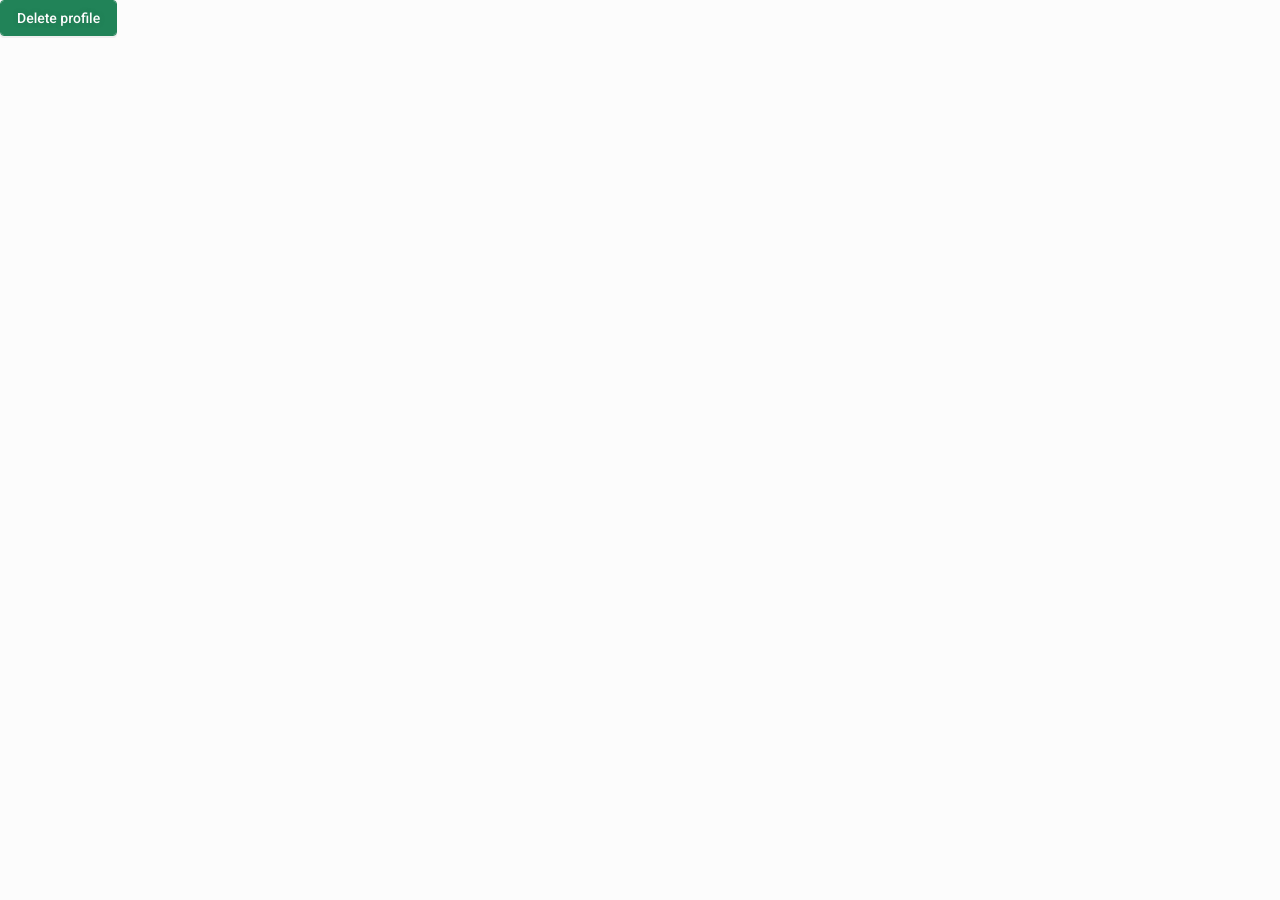
Scenario: ConfirmDialog › confirming calls onConfirm once and closes the dialog
Click the button "Delete profile": (59, 18) [0, 0, 117, 36]
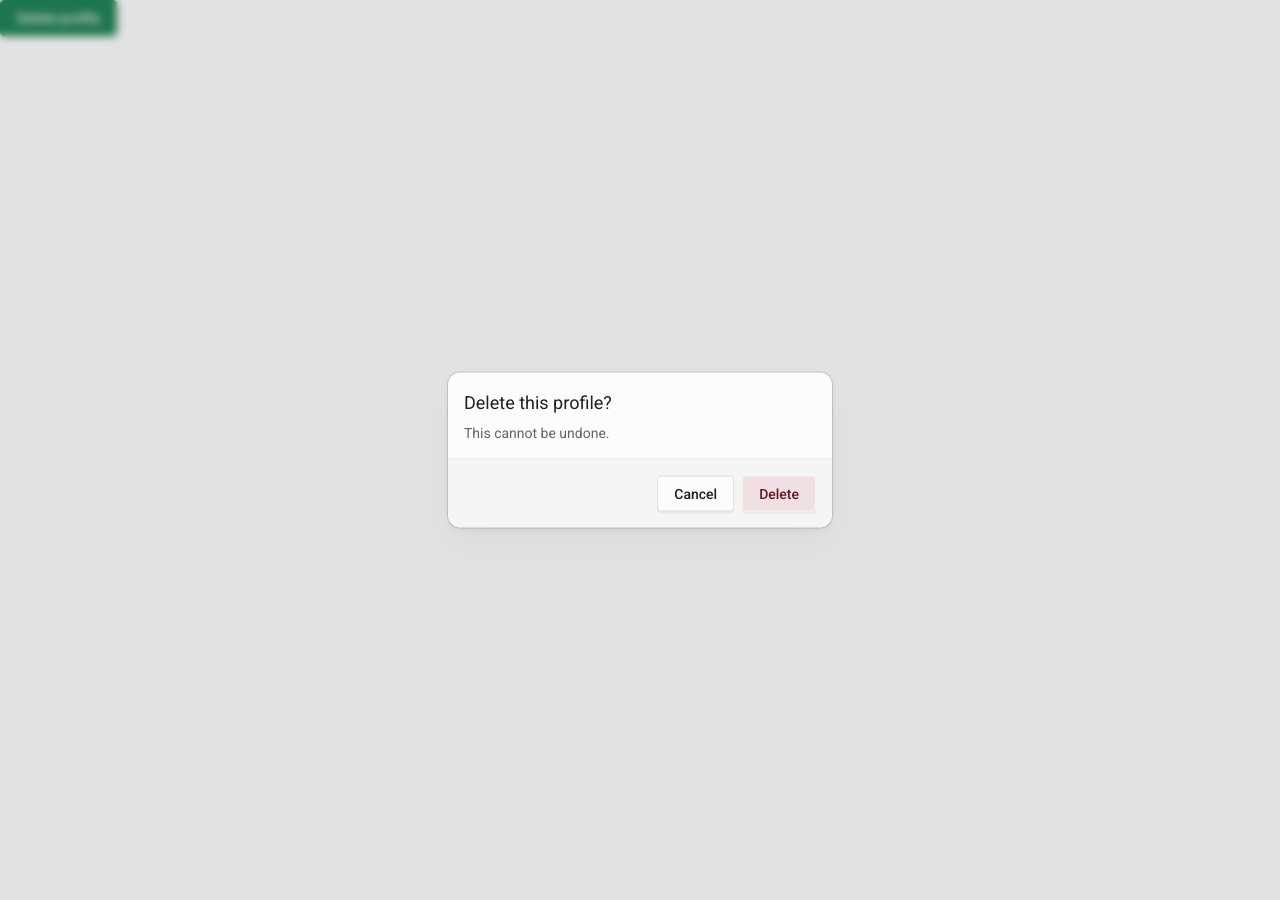
Result: the dialog is shown at [448, 372, 832, 528]
Result: the text "This cannot be undone." is shown at [464, 422, 610, 442]
Click the button "Delete": (779, 494) [742, 476, 816, 512]
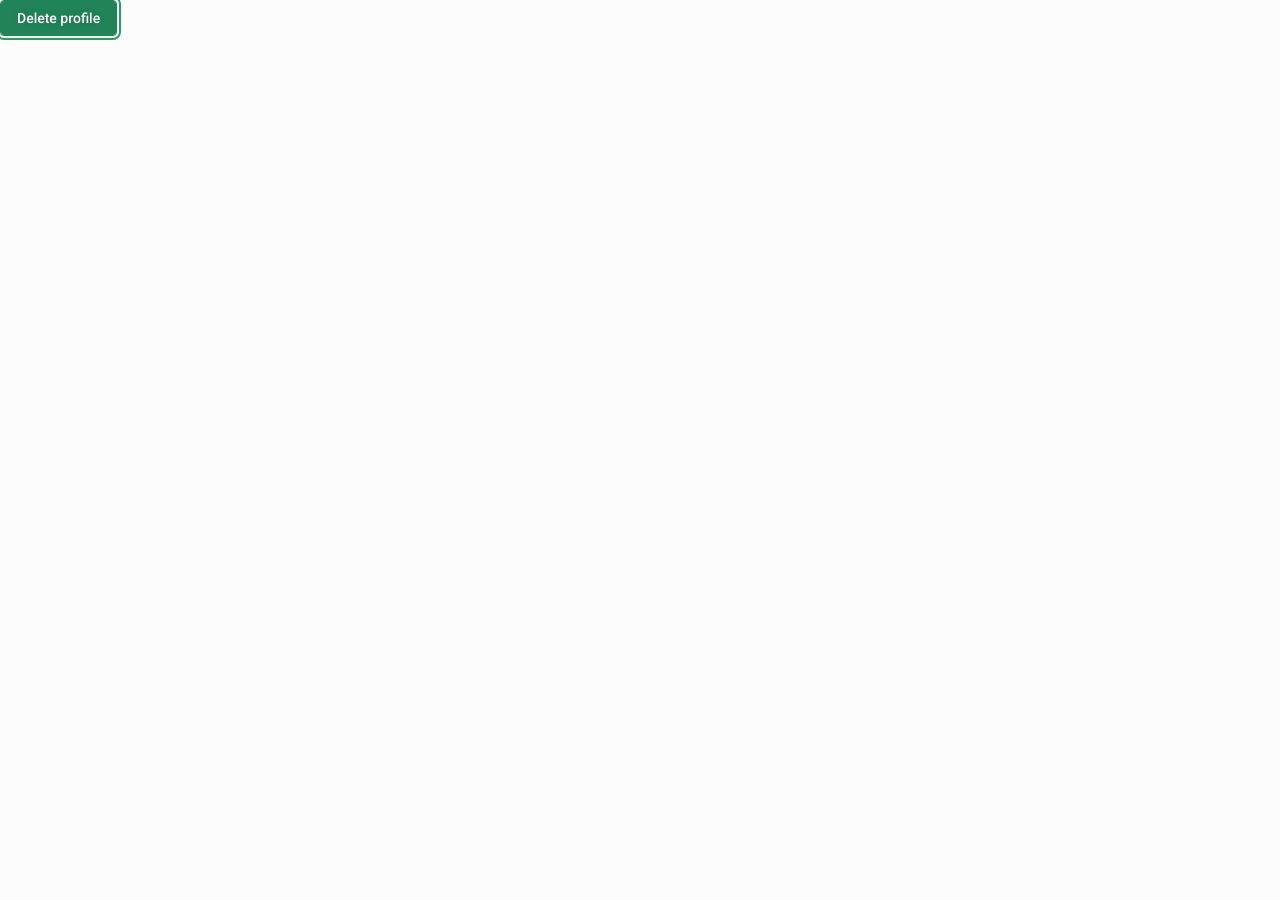
Result: the dialog is gone
